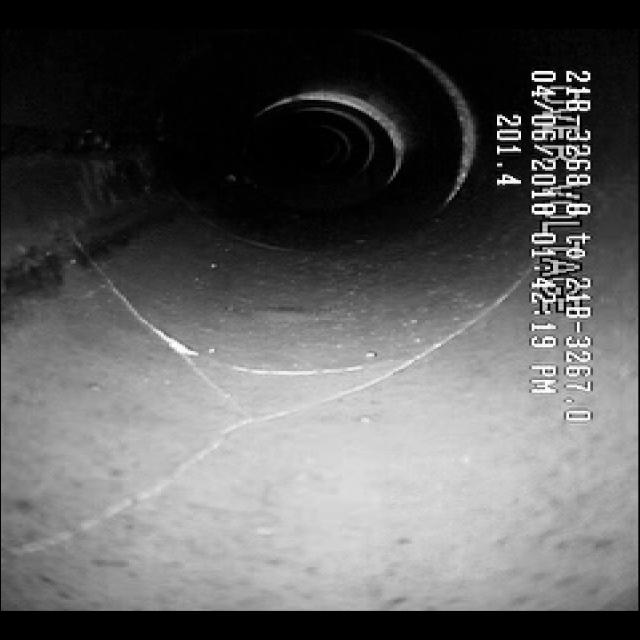Crack: (102, 310, 479, 478)
